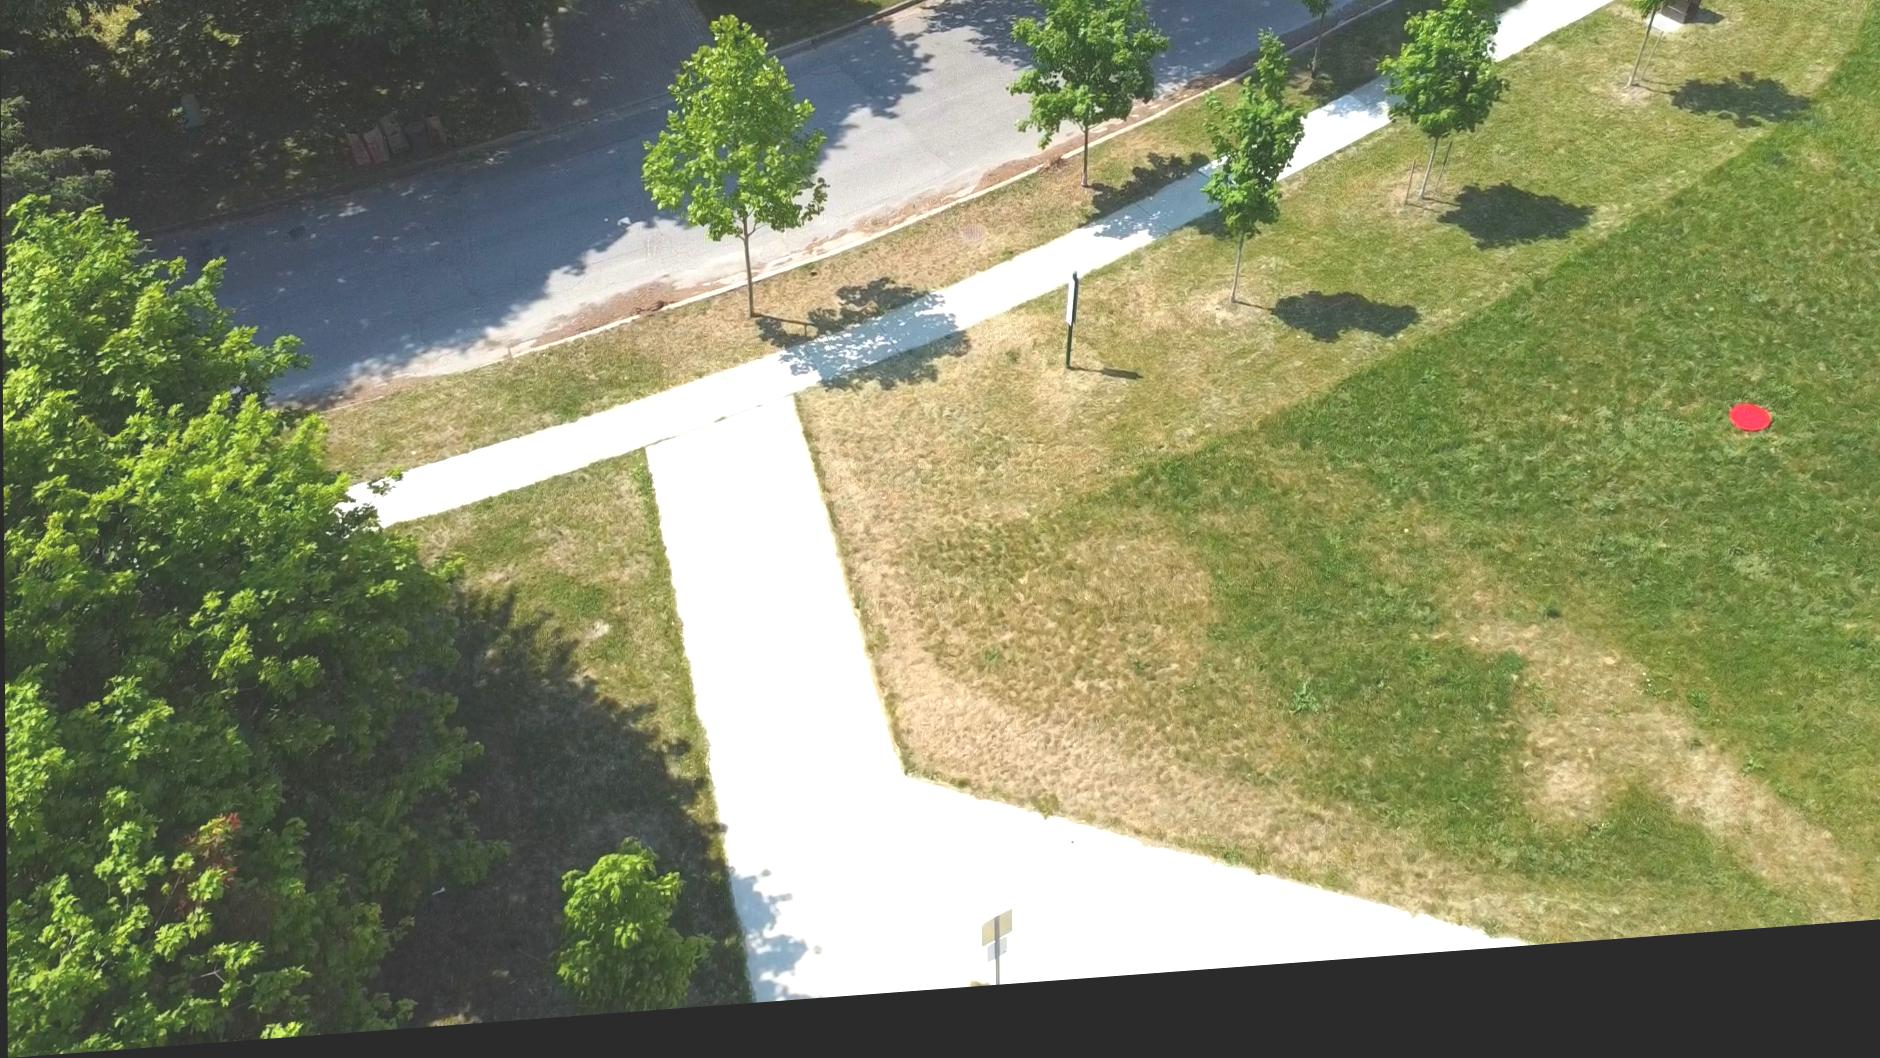Red: (1728, 428, 1772, 462)
